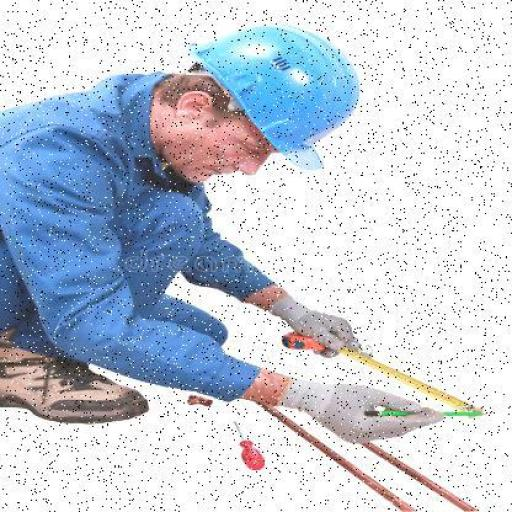safety_shoe: (0, 338, 142, 428)
